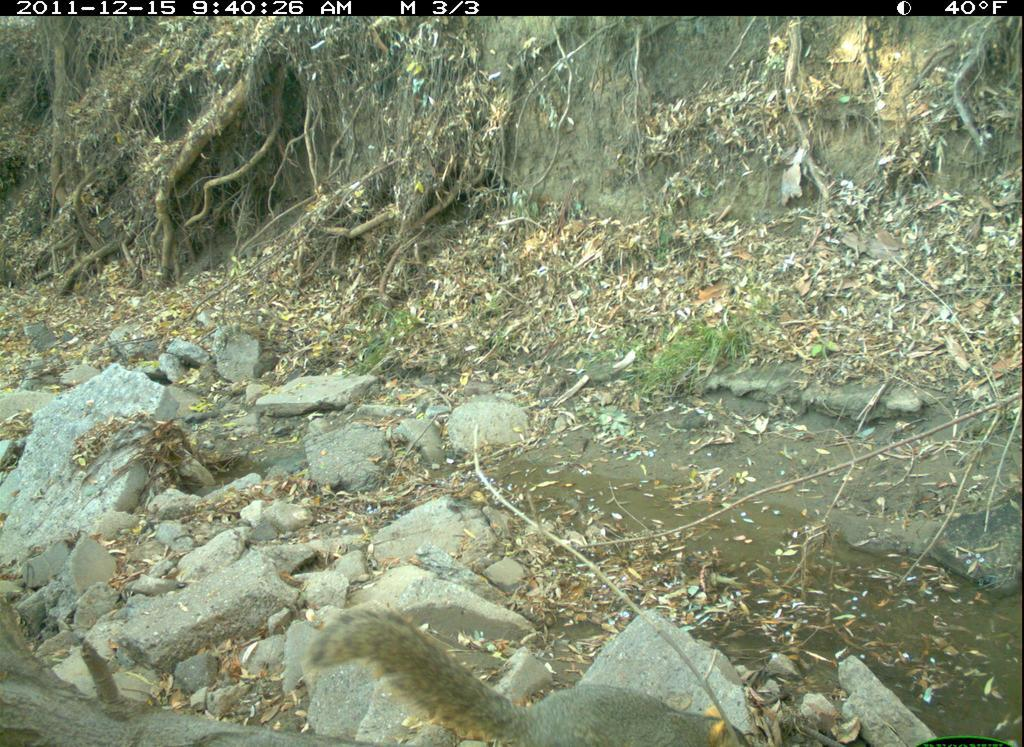squirrel: (312, 605, 743, 747)
